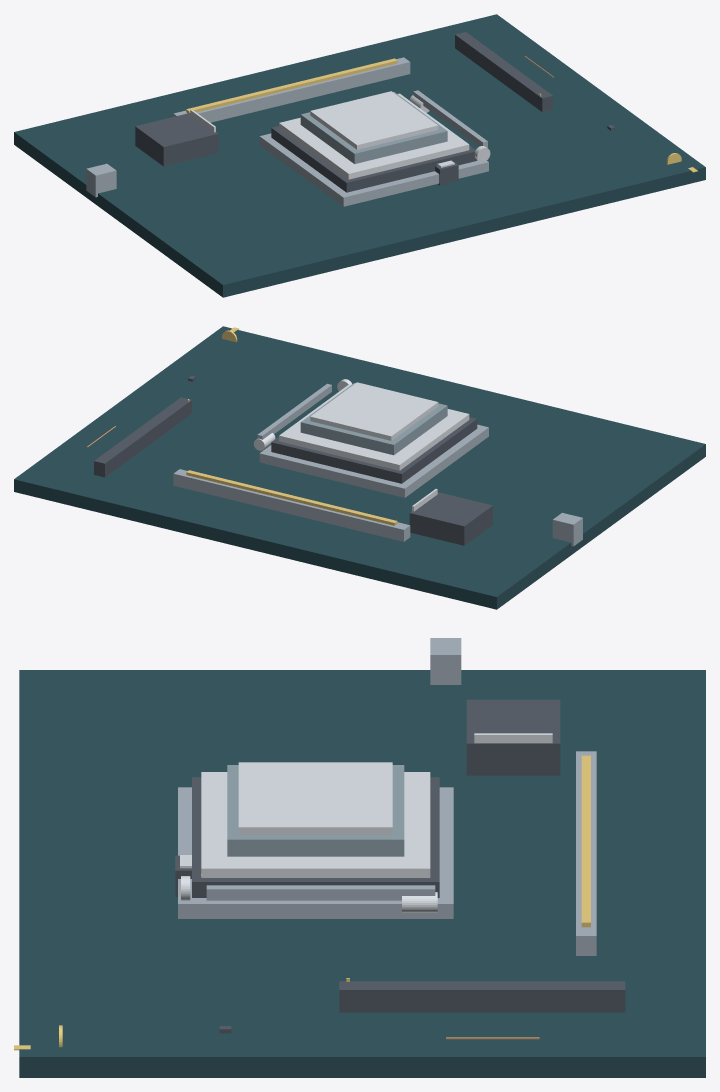
File: 02-motherboard.glb
3 views of the same model, one above another, from view 1: azimuth 30°, elevation 25°; view 2: azimuth 150°, elevation 25°; view 3: azimuth 270°, elevation 25° (orthographic). The views are drawn at different scales.
Visible parts, largest first — view 1: Motherboard FR4 substrate, CPU heat spreader, Socket load plate, LGA socket backplate, Chipset heatsink, PCIe reinforced slot, Socket insulating carrier, CPU package, DDR5 DIMM socket, PCIe contact bed, Load lever, Rear I/O connector; view 2: Motherboard FR4 substrate, CPU heat spreader, PCIe reinforced slot, LGA socket backplate, Socket load plate, Chipset heatsink, Socket insulating carrier, CPU package, DDR5 DIMM socket, PCIe contact bed, Load lever, Rear I/O connector; view 3: Motherboard FR4 substrate, CPU heat spreader, Socket load plate, DDR5 DIMM socket, LGA socket backplate, Chipset heatsink, CPU package, Socket insulating carrier, Load lever, PCIe reinforced slot, PCIe contact bed, Rear I/O connector (+1 smaller).
Part boxes in pixels (x1,y1,x2,y2): Motherboard FR4 substrate: (14,14,705,297); CPU heat spreader: (310,91,438,149); Socket load plate: (279,93,469,179); LGA socket backplate: (259,133,488,206); Chipset heatsink: (135,113,218,166); PCIe reinforced slot: (173,57,410,122); Socket insulating carrier: (271,126,477,192); CPU package: (300,91,447,163); DDR5 DIMM socket: (455,32,552,111); PCIe contact bed: (186,58,397,113); Load lever: (413,90,487,148); Rear I/O connector: (86,163,116,197); Motherboard FR4 substrate: (14,326,705,609); CPU heat spreader: (310,382,438,440); PCIe reinforced slot: (173,469,410,541); LGA socket backplate: (259,424,488,497); Socket load plate: (279,384,469,470); Chipset heatsink: (409,492,492,545); Socket insulating carrier: (271,417,477,483); CPU package: (300,383,447,455); DDR5 DIMM socket: (94,397,191,477); PCIe contact bed: (186,470,397,525); Load lever: (257,383,331,439); Rear I/O connector: (552,512,582,546); Motherboard FR4 substrate: (19,670,705,1077); CPU heat spreader: (238,762,392,834); Socket load plate: (201,772,430,877); DDR5 DIMM socket: (339,981,625,1012); LGA socket backplate: (178,787,453,918); Chipset heatsink: (466,699,560,775); CPU package: (227,765,404,856); Socket insulating carrier: (192,777,439,897); Load lever: (206,885,435,900); PCIe reinforced slot: (576,751,596,955); PCIe contact bed: (581,755,590,927); Rear I/O connector: (430,638,461,684).
Size of the model in its own units: 8.84 by 0.95 by 6.65.
